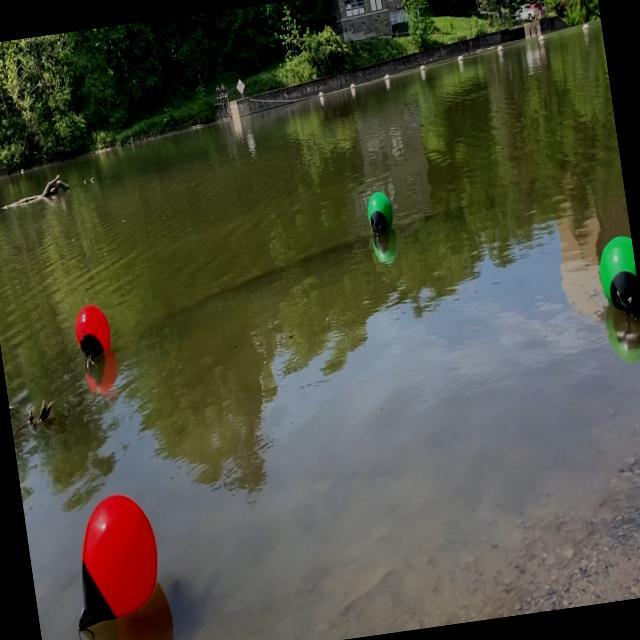buoy: (56, 488, 170, 636), (592, 231, 640, 319), (70, 300, 116, 370), (363, 186, 397, 237)
